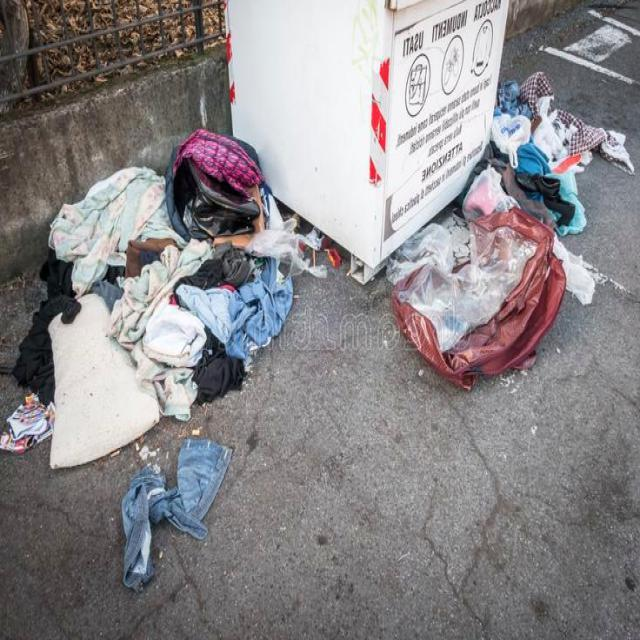clothes: (74, 167, 178, 331)
